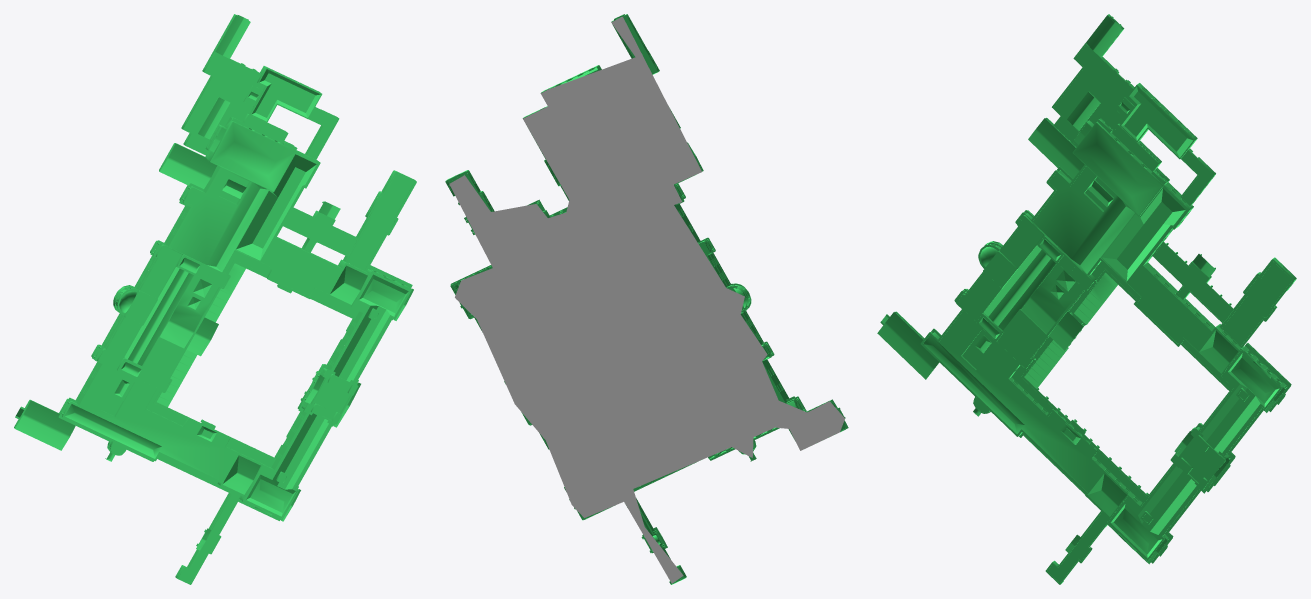
3 views of the same model, side by side, from view 1: azimuth 30°, elevation 25°; view 2: azimuth 150°, elevation 25°; view 3: azimuth 330°, elevation 25° (orthographic). The views are drawn at different scales.
Bounding box in the file's own units: 999 × 1327 × 26.97.
